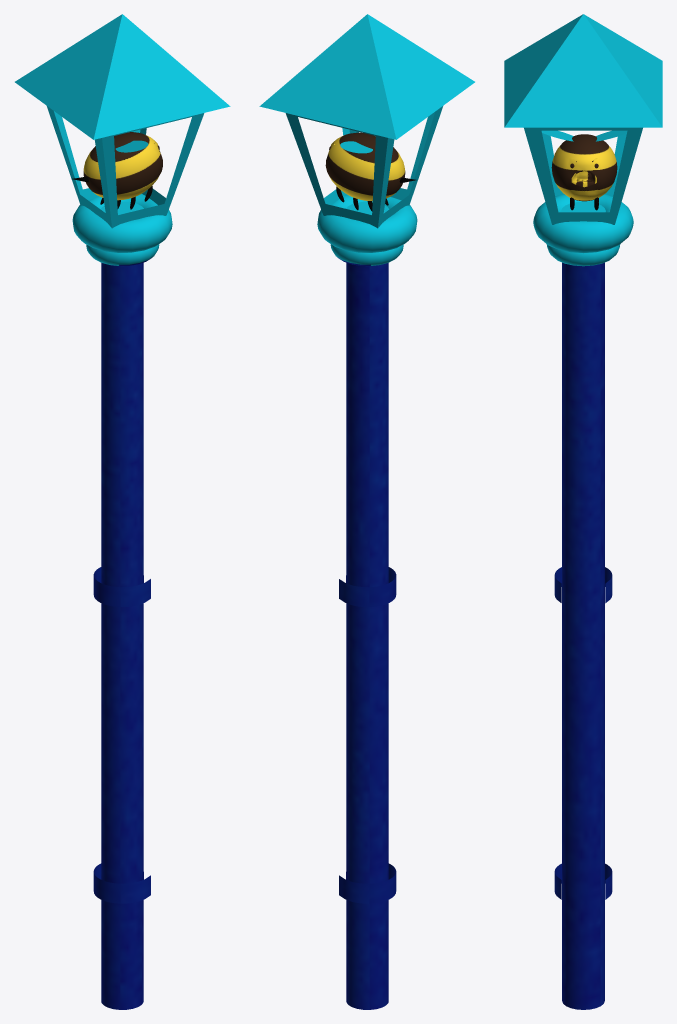
The model's file is LAMPARA_HDA.obj.
The picture shows the model from 3 angles, left to right: view 1: azimuth 30°, elevation 25°; view 2: azimuth 150°, elevation 25°; view 3: azimuth 270°, elevation 25°; orthographic projection.
Parts seen in each view (by area): view 1: Object_12; view 2: Object_12; view 3: Object_12.
Part boxes in pixels (x1,y1,x2,y2): Object_12: [15, 14, 230, 1009]; Object_12: [259, 14, 474, 1009]; Object_12: [504, 14, 662, 1009].
Bounding box in the file's own units: 0.2893 × 2 × 0.2893.
Materials: 9 (9 with a texture image).
